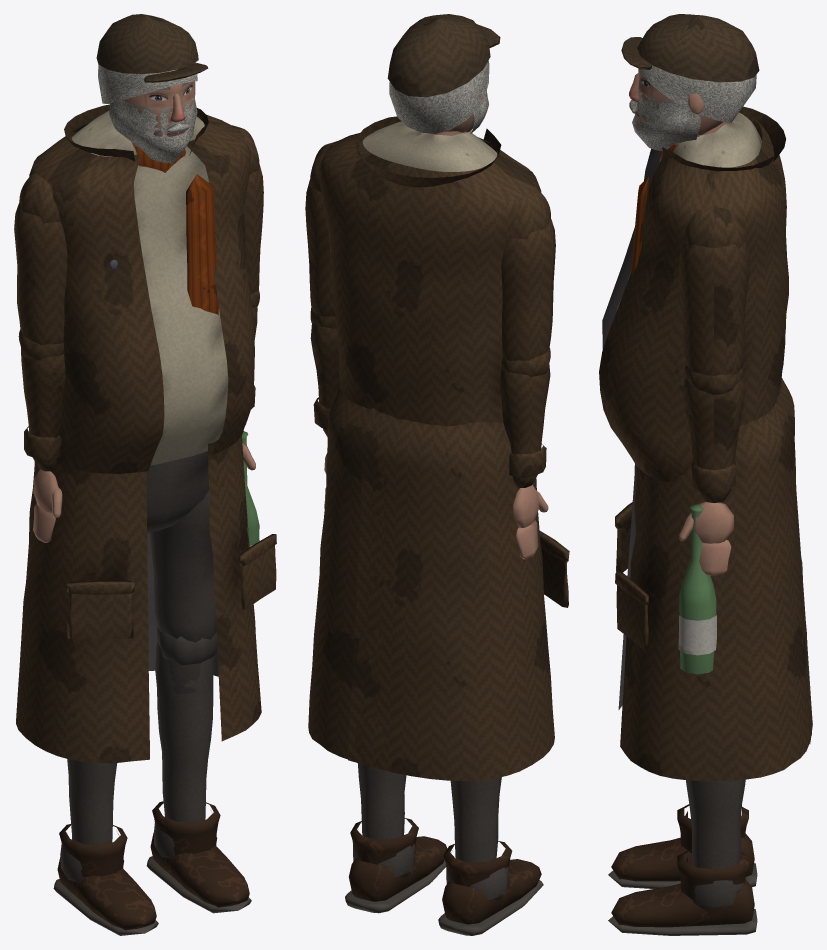
File: char_silas.glb
The picture shows the model from 3 angles, left to right: view 1: azimuth 30°, elevation 25°; view 2: azimuth 150°, elevation 25°; view 3: azimuth 270°, elevation 25°; orthographic projection.
Visible parts, largest first — view 1: Spine, SkirtR, SkirtL, ShinL, Head, UpperArmR, ThighL, ShinR, ForearmR, FootL, FootR, Hips (+3 smaller); view 2: SkirtR, Spine, SkirtL, Head, UpperArmR, ShinR, ShinL, ForearmR, FootR, FootL, UpperArmL, ForearmL (+1 smaller); view 3: SkirtL, Spine, Head, UpperArmL, ShinL, HandL, ForearmL, FootL, FootR, SkirtR, ShinR.
Part boxes in pixels (box(x1,y1,x2,y2)): Spine: box(29, 104, 254, 473); SkirtR: box(16, 424, 149, 763); SkirtL: box(147, 433, 276, 741); ShinL: box(152, 627, 220, 863); Head: box(96, 14, 208, 162); UpperArmR: box(14, 173, 67, 345); ThighL: box(150, 490, 216, 642); ShinR: box(59, 759, 127, 885); ForearmR: box(18, 329, 65, 471); FootL: box(146, 832, 251, 913); FootR: box(53, 857, 158, 935); Hips: box(146, 451, 209, 532); SkirtR: box(348, 407, 569, 781); Spine: box(320, 116, 541, 426); SkirtL: box(308, 386, 421, 767); Head: box(387, 14, 500, 135); UpperArmR: box(501, 189, 555, 360); ShinR: box(443, 777, 512, 904); ShinL: box(350, 763, 418, 881); ForearmR: box(500, 347, 550, 487); FootR: box(438, 859, 543, 935); FootL: box(345, 836, 447, 913); UpperArmL: box(305, 141, 336, 316); ForearmL: box(310, 308, 339, 436); SkirtL: box(615, 389, 811, 781); Spine: box(599, 106, 788, 482); Head: box(621, 14, 759, 151); UpperArmL: box(679, 205, 749, 375); ShinL: box(677, 779, 748, 915); HandL: box(678, 502, 733, 674); ForearmL: box(683, 365, 744, 502); FootL: box(608, 879, 757, 935); FootR: box(608, 833, 757, 888); SkirtR: box(615, 378, 812, 743); ShinR: box(677, 804, 748, 853).
Bounding box in the file's own units: 0.5005 × 1.74 × 0.3804.
Materials: 15 (15 with a texture image).
